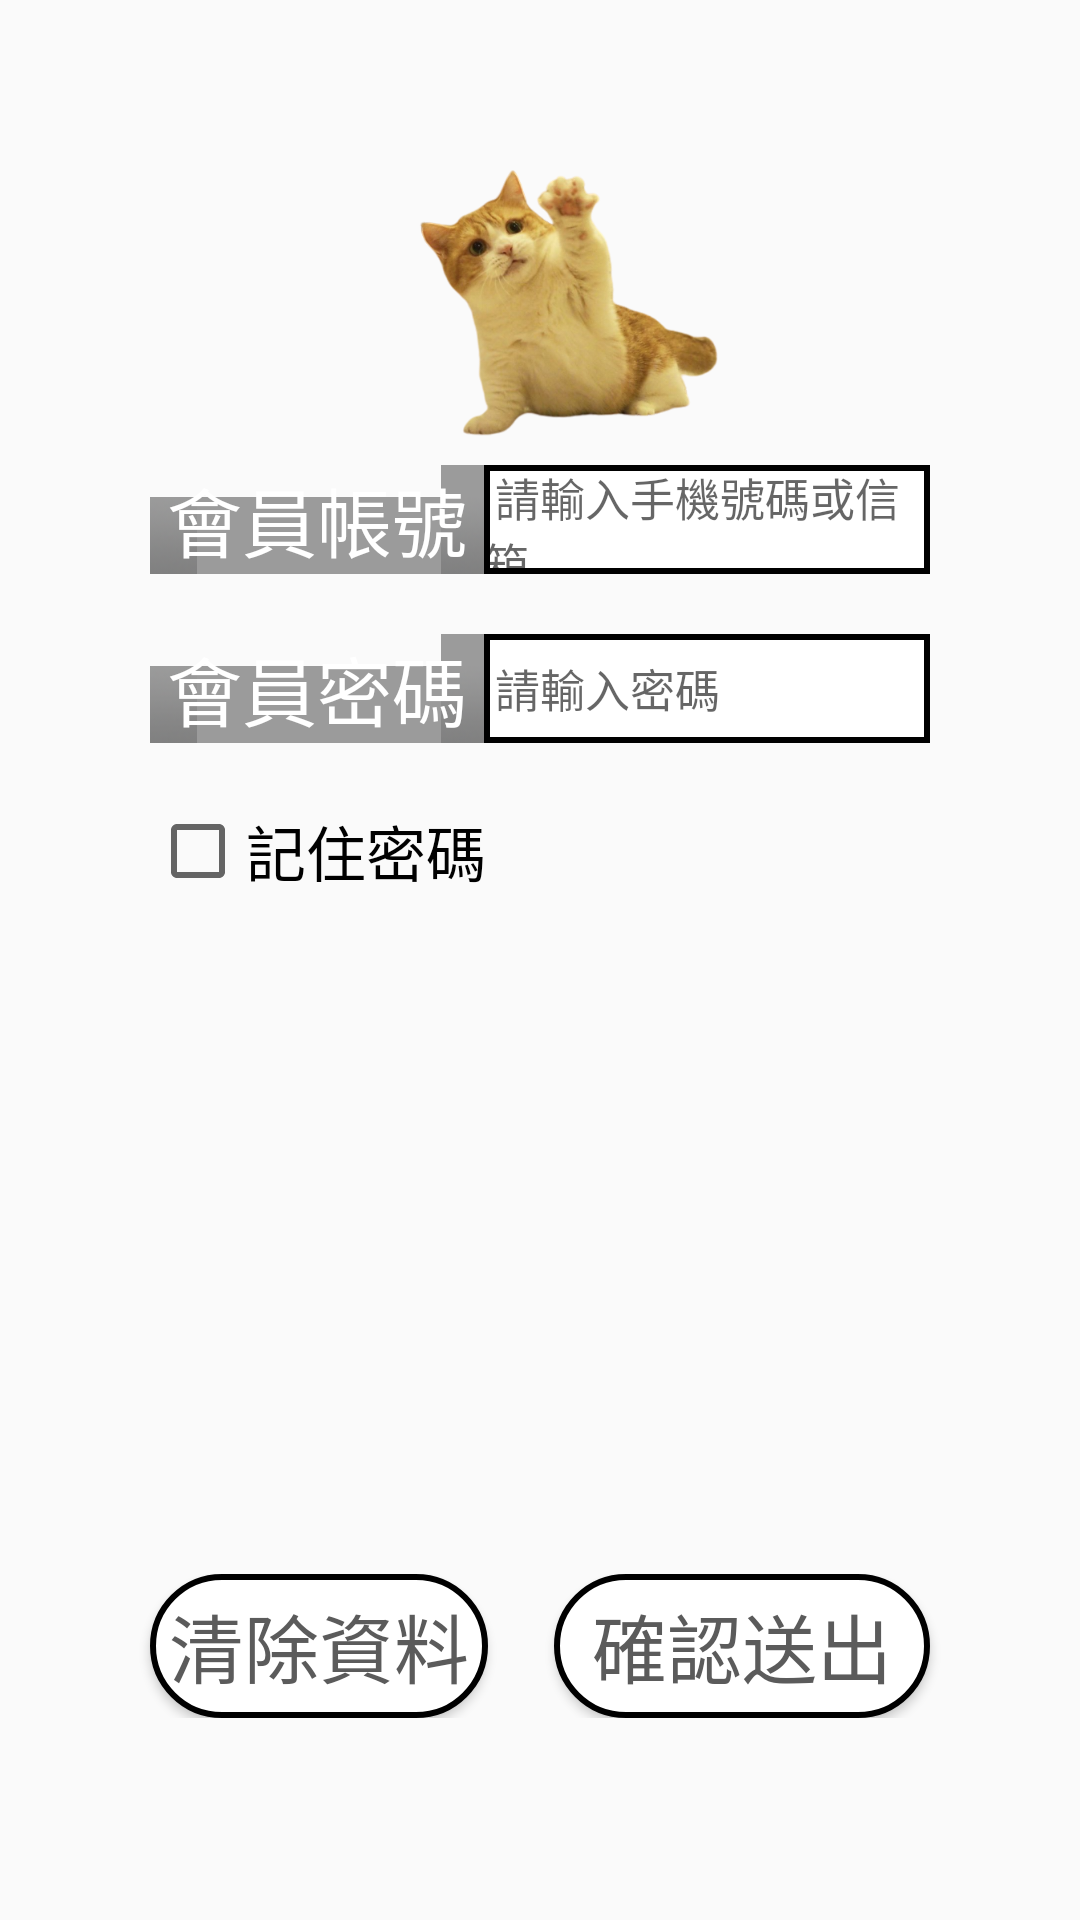

Icon click points for this 1080px×1920px phone screenshot, format point (x, y):
cat: point (568, 302)
